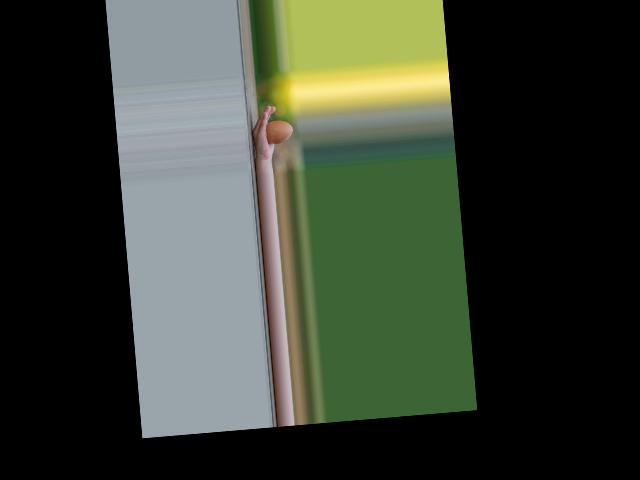egg: (265, 119, 293, 145)
